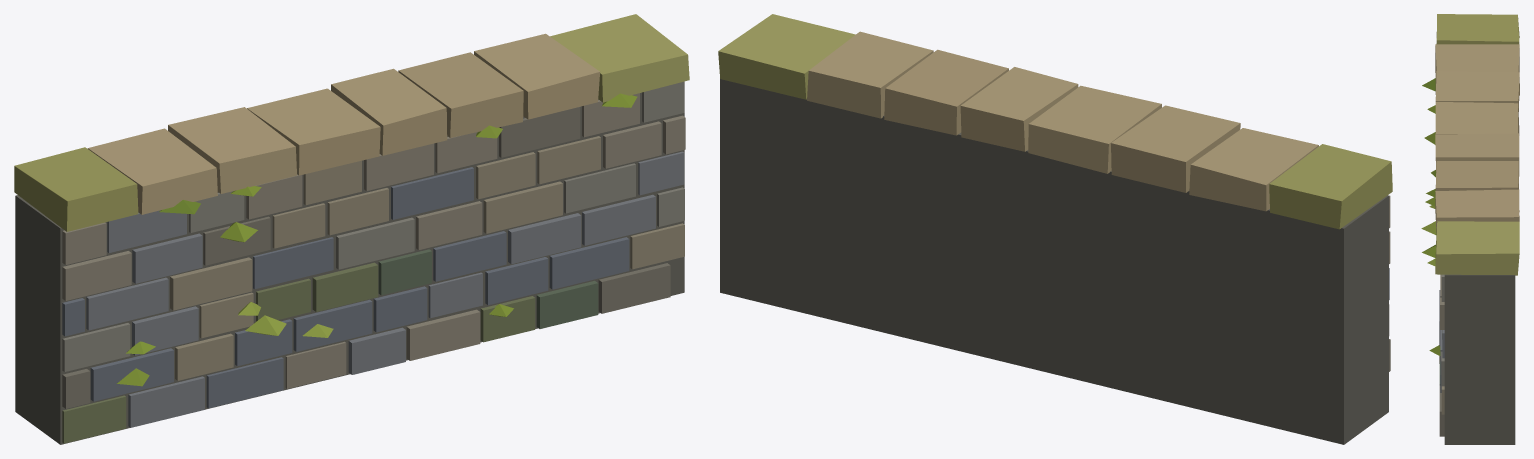
The model's file is town_canal_wall.glb.
3 renders of one model, left to right at view 1: azimuth 30°, elevation 25°; view 2: azimuth 150°, elevation 25°; view 3: azimuth 270°, elevation 25°, orthographic. The views are drawn at different scales.
Visible parts, largest first — view 1: town_canal_wall; view 2: town_canal_wall; view 3: town_canal_wall.
Part boxes in pixels (x1=…): town_canal_wall: x1=14, y1=14, x2=689, y2=444; town_canal_wall: x1=718, y1=14, x2=1392, y2=444; town_canal_wall: x1=1421, y1=14, x2=1519, y2=444.
Size of the model in its own units: 8 by 3.04 by 1.4.
